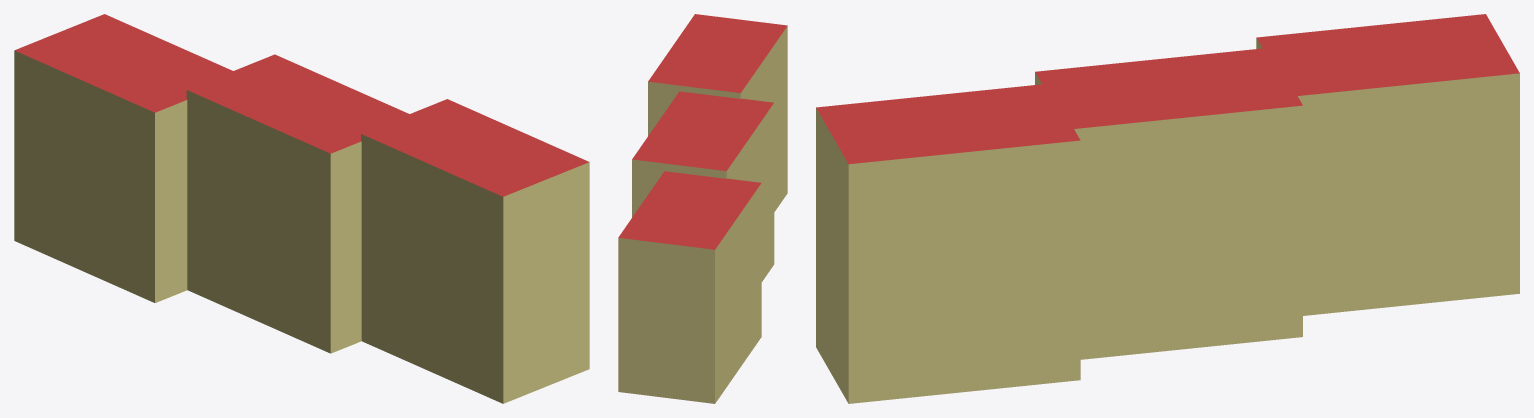
The picture shows the model from 3 angles, left to right: view 1: azimuth 30°, elevation 25°; view 2: azimuth 150°, elevation 25°; view 3: azimuth 270°, elevation 25°; orthographic projection. The views are drawn at different scales.
Visible parts, largest first — view 1: group_10, group_4, group_7, group_9, group_3, group_6; view 2: group_7, group_6, group_3, group_9, group_4, group_10; view 3: group_10, group_4, group_7, group_3, group_6, group_9.
Part boxes in pixels (left/top/right/bottom): group_10: left=361, top=134, right=589, bottom=403; group_4: left=186, top=90, right=361, bottom=353; group_7: left=14, top=50, right=187, bottom=302; group_9: left=361, top=99, right=588, bottom=196; group_3: left=187, top=54, right=409, bottom=153; group_6: left=15, top=14, right=232, bottom=112; group_7: left=618, top=183, right=761, bottom=403; group_6: left=618, top=171, right=761, bottom=249; group_3: left=632, top=91, right=773, bottom=171; group_9: left=648, top=14, right=787, bottom=92; group_4: left=632, top=103, right=774, bottom=281; group_10: left=648, top=26, right=787, bottom=211; group_10: left=816, top=108, right=1080, bottom=403; group_4: left=1035, top=72, right=1302, bottom=359; group_7: left=1256, top=38, right=1519, bottom=315; group_3: left=1035, top=47, right=1302, bottom=128; group_6: left=1256, top=14, right=1519, bottom=95; group_9: left=816, top=83, right=1080, bottom=164.
Bounding box in the file's own units: 42.36 × 74.33 × 27.93.
